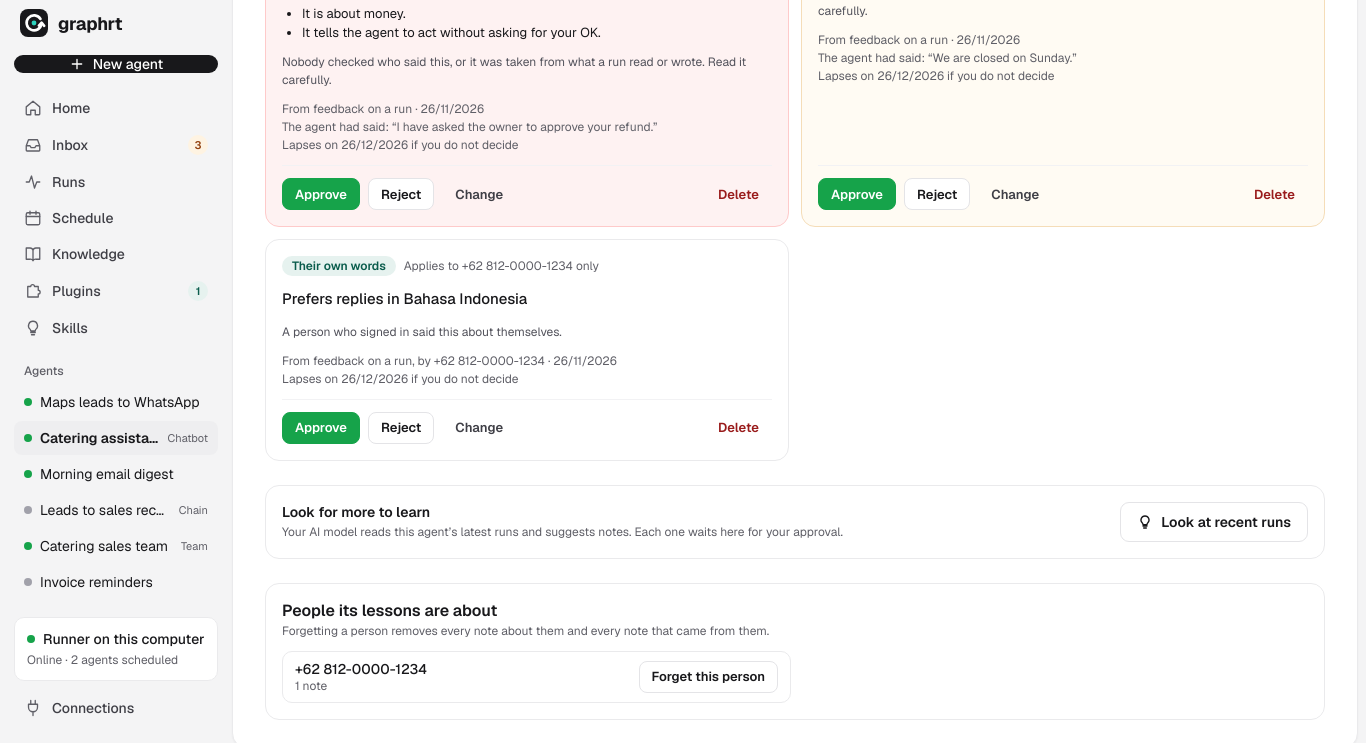
Test case: AgentLearnedPage › explains a missing model when asking for suggestions, without the technical error
(page scrolled)
Click the button "Look at recent runs".
click(1214, 522)  # box [1120, 502, 1308, 542]
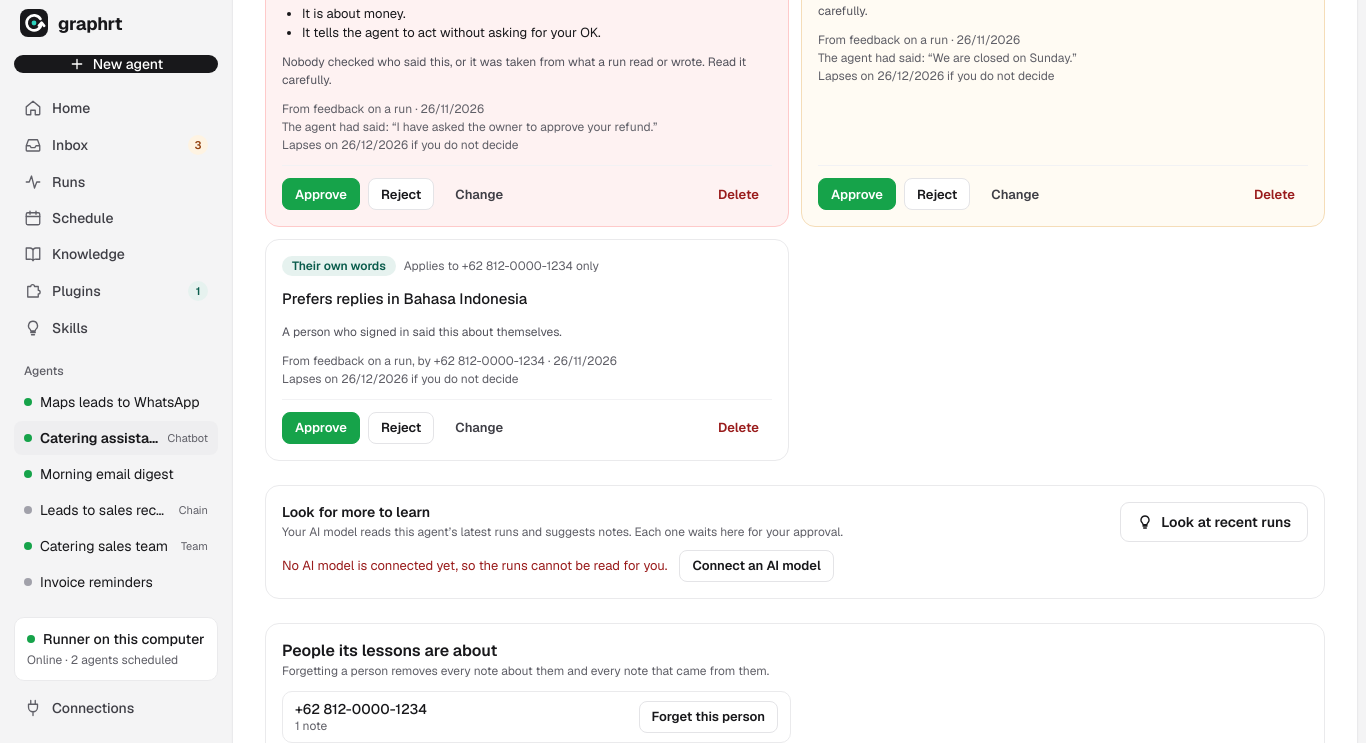
Expected: the message shows "No AI model is connected yet, so the runs cannot be read for you.", [282, 557, 667, 574]
Expected: the link "Connect an AI model" is shown, [679, 550, 834, 582]
